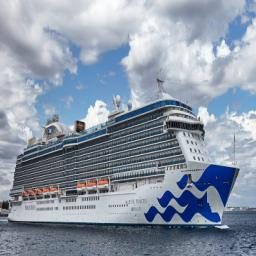cruises: (7, 86, 242, 232)
